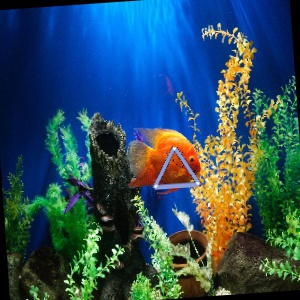triangle: (151, 145, 204, 191)
